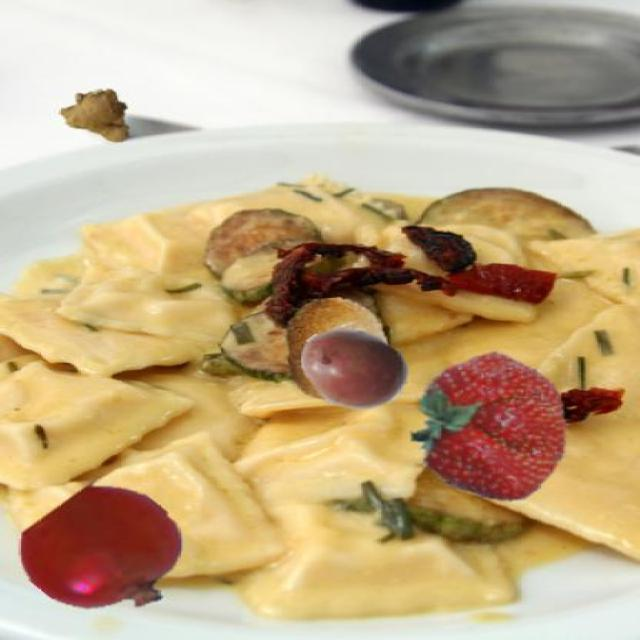Apple: (21, 488, 184, 607)
Strawberry: (388, 350, 592, 505)
